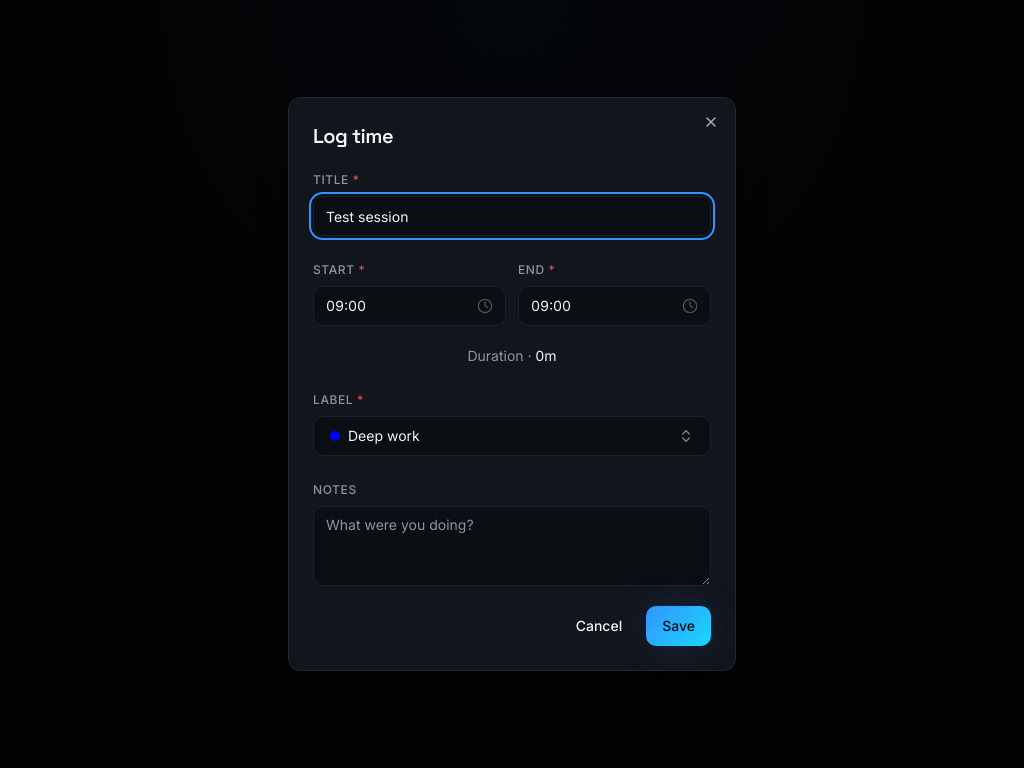
Test: QuickLogDialog › rejects a zero-length entry (start === end) with no insert
Step 1. Click the button "Save" → (679,626), box [646,606,711,646]
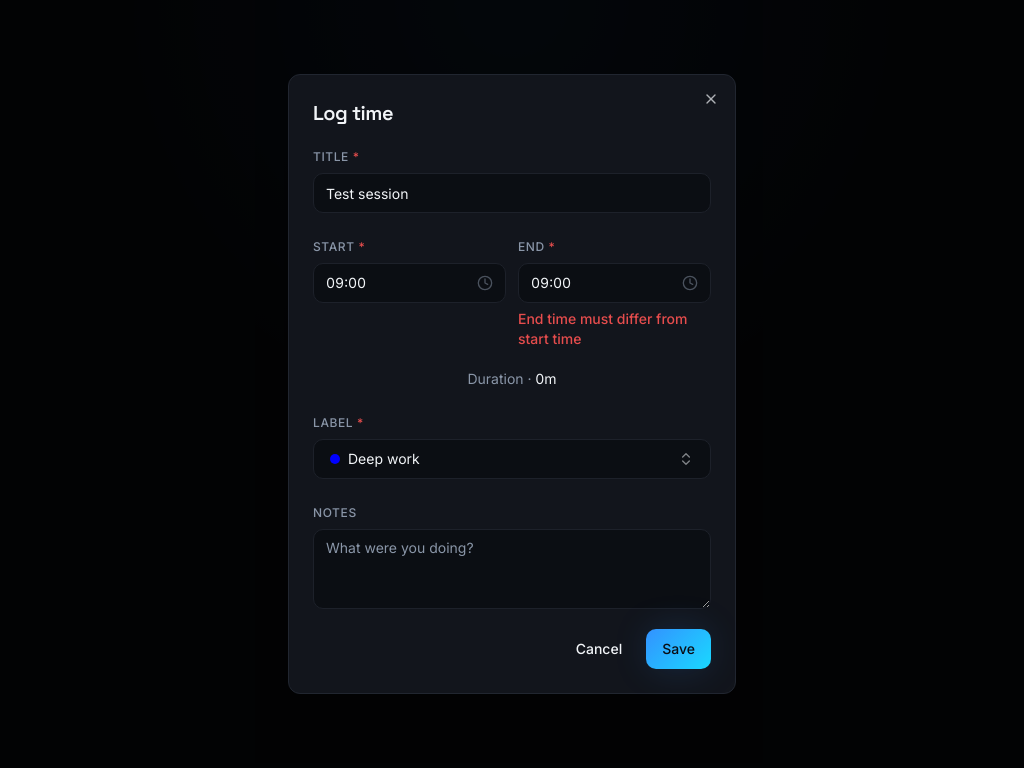
Expected: the text "End time must differ from start time" is shown, [518,309,711,349]
